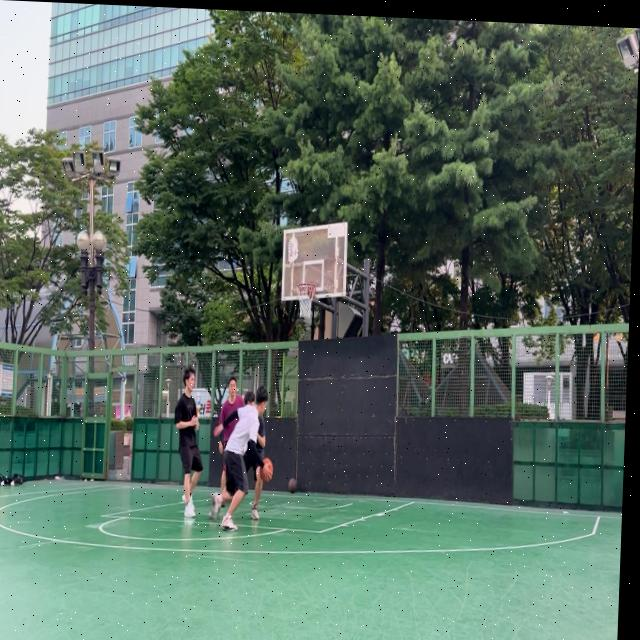basketball: (259, 456, 274, 483), (288, 477, 297, 494)
hoop: (296, 282, 316, 320)
